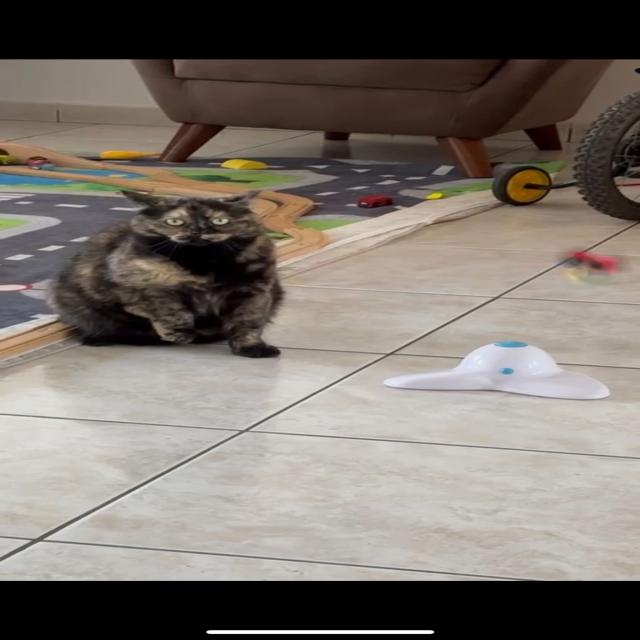authorized: (44, 188, 286, 359)
